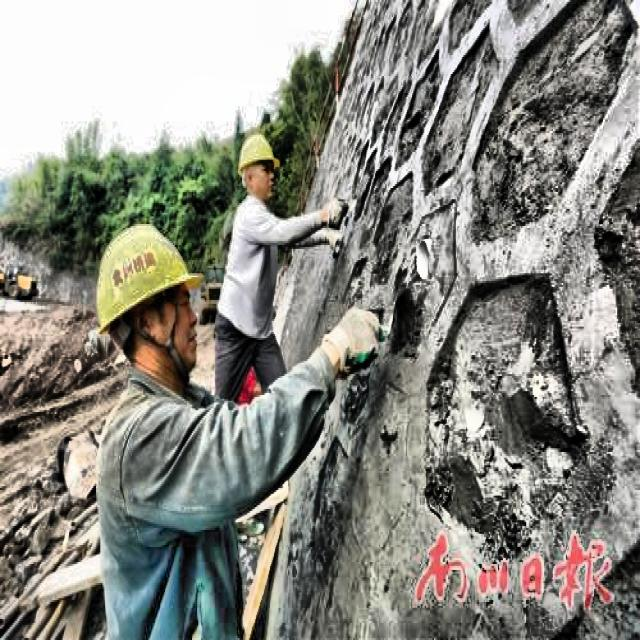helmet: (83, 209, 206, 401), (237, 129, 280, 205)
